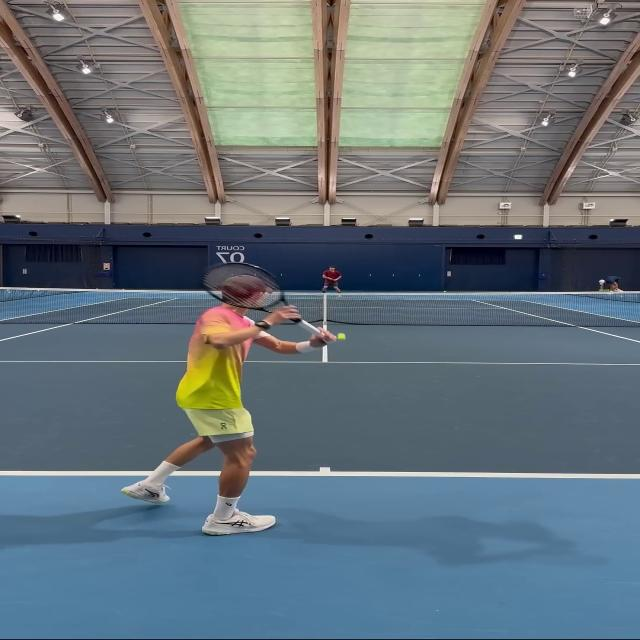tennis_ball: (339, 334, 344, 339)
